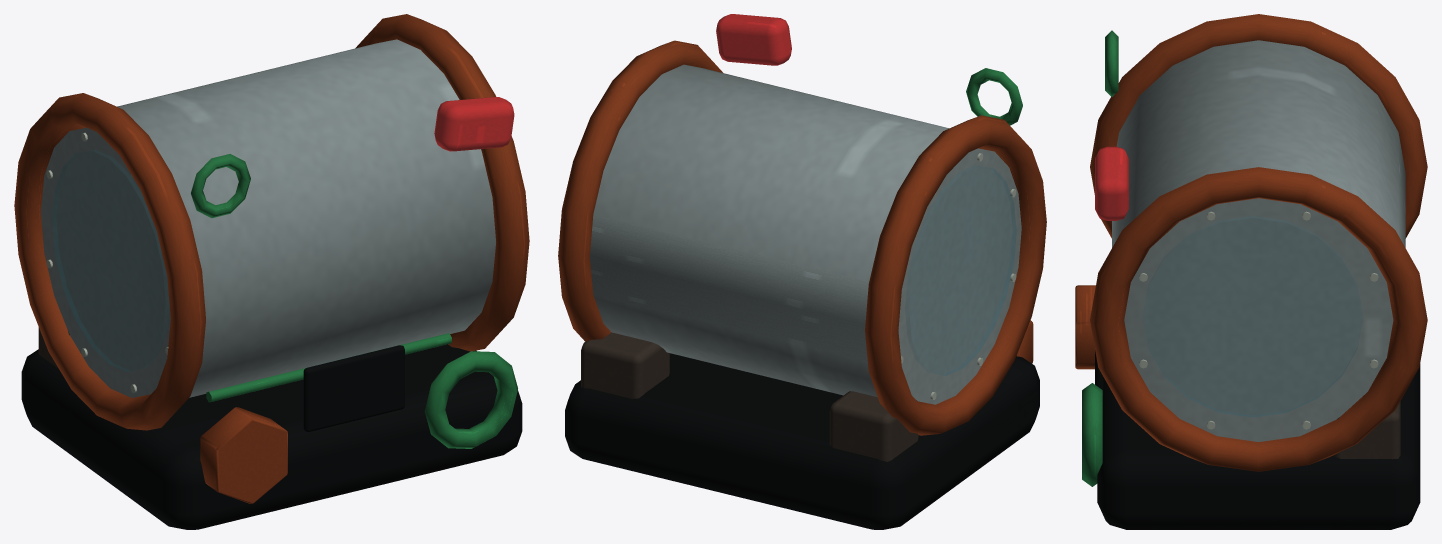
Rendered from starter-vault-standard.glb.
The picture shows the model from 3 angles, left to right: view 1: azimuth 30°, elevation 25°; view 2: azimuth 150°, elevation 25°; view 3: azimuth 270°, elevation 25°; orthographic projection. The views are drawn at different scales.
Parts seen in each view (by area): view 1: Vault_Capsule, Vault_Shock_Base, Vault_Collar_-0.37, Vault_Collar_0.37, Vault_Control_Panel, PORT_Material.002, PORT_Life.003, STATE_DAMAGED, STATE_REPAIRED, Vault_Cryo_Line, Vault_Window; view 2: Vault_Capsule, Vault_Shock_Base, Vault_Collar_-0.37, Vault_Collar_0.37, Vault_Shock_Mount_0.3, Vault_Shock_Mount_-0.3, STATE_DAMAGED, STATE_REPAIRED, Vault_Window; view 3: Vault_Capsule, Vault_Collar_0.37, Vault_Shock_Base, Vault_Collar_-0.37, STATE_DAMAGED, PORT_Life.003, Vault_Shock_Mount_0.3, PORT_Material.002, STATE_REPAIRED, Vault_Window.
Boxes of the visible parts, x1,y1,x2,y2 form: Vault_Capsule: (41,39,495,397); Vault_Shock_Base: (21,344,522,529); Vault_Collar_-0.37: (14,93,205,430); Vault_Collar_0.37: (355,14,529,351); Vault_Control_Panel: (303,345,404,431); PORT_Material.002: (200,407,287,503); PORT_Life.003: (424,351,517,448); STATE_DAMAGED: (434,97,514,151); STATE_REPAIRED: (191,154,250,218); Vault_Cryo_Line: (206,333,451,402); Vault_Window: (52,153,132,371); Vault_Capsule: (590,64,1021,404); Vault_Shock_Base: (565,353,1039,529); Vault_Collar_-0.37: (865,115,1046,435); Vault_Collar_0.37: (558,40,722,341); Vault_Shock_Mount_0.3: (581,332,669,398); Vault_Shock_Mount_-0.3: (829,391,918,461); STATE_DAMAGED: (716,14,791,65); STATE_REPAIRED: (966,68,1022,125); Vault_Window: (935,168,1016,375); Vault_Capsule: (1112,40,1405,441); Vault_Collar_0.37: (1090,167,1427,471); Vault_Shock_Base: (1097,364,1420,529); Vault_Collar_-0.37: (1090,14,1427,238); STATE_DAMAGED: (1095,146,1128,220); PORT_Life.003: (1082,383,1102,486); Vault_Shock_Mount_0.3: (1334,401,1400,459); PORT_Material.002: (1075,285,1095,369); STATE_REPAIRED: (1105,30,1118,96); Vault_Window: (1143,318,1362,417).
Size of the model in its own units: 0.82 by 0.825 by 0.72.
Materials: 8 (8 with a texture image).
